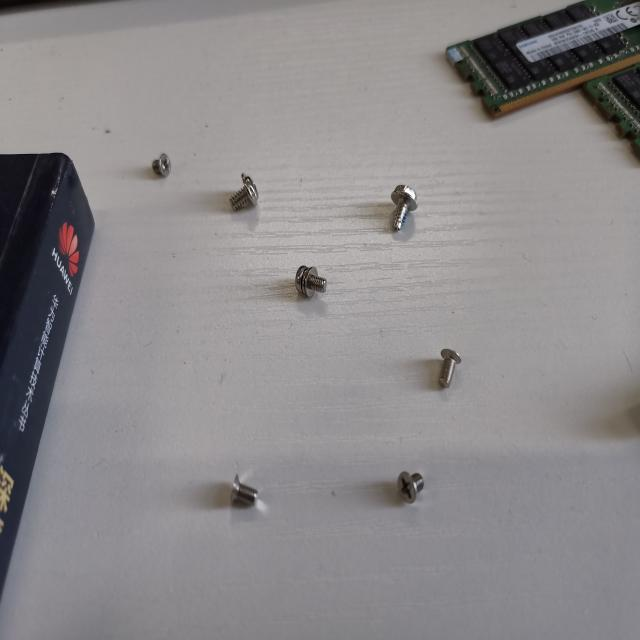Screw: (389, 182, 419, 234), (228, 170, 260, 214), (294, 263, 329, 302), (396, 468, 428, 505), (437, 346, 464, 389), (228, 473, 260, 509), (150, 150, 172, 182)
